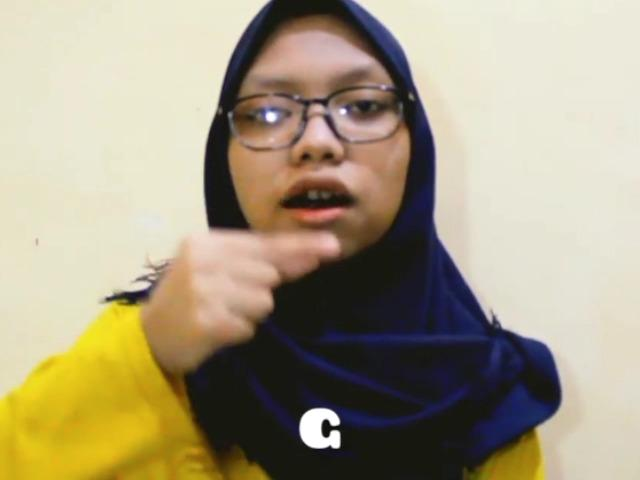G: (144, 223, 346, 354)
